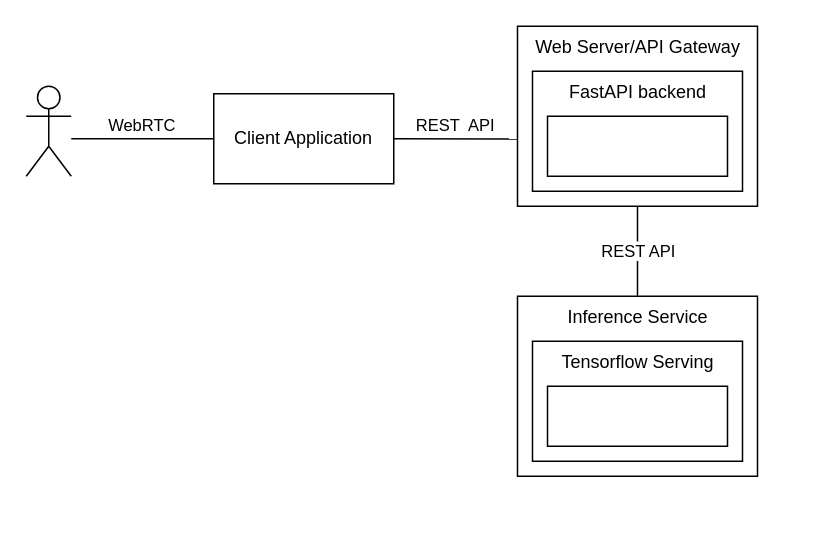
Image size: 813x533. Some labels were removed from this diagram. Here are the shapes that lost their labels. From the top down, the centre of each, then its label:
At (48,130): "User".
At (637,145): "Image Preprocessor".
At (637,415): "SSD MobileNet V2".
